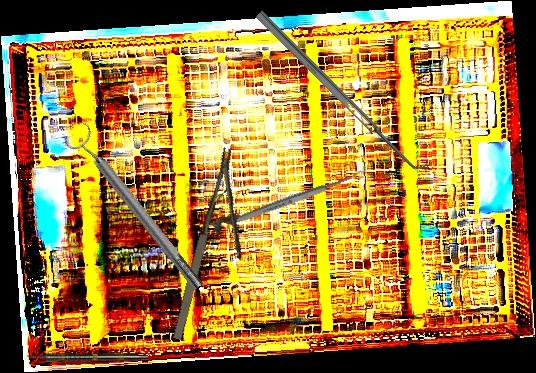Fixation Ring: (61, 120, 211, 298)
Handpiece: (27, 352, 148, 362)
Needle Holder: (166, 147, 271, 350)
Spatula Surgical: (255, 4, 431, 179)
Surgical Spoon: (232, 169, 365, 226)
